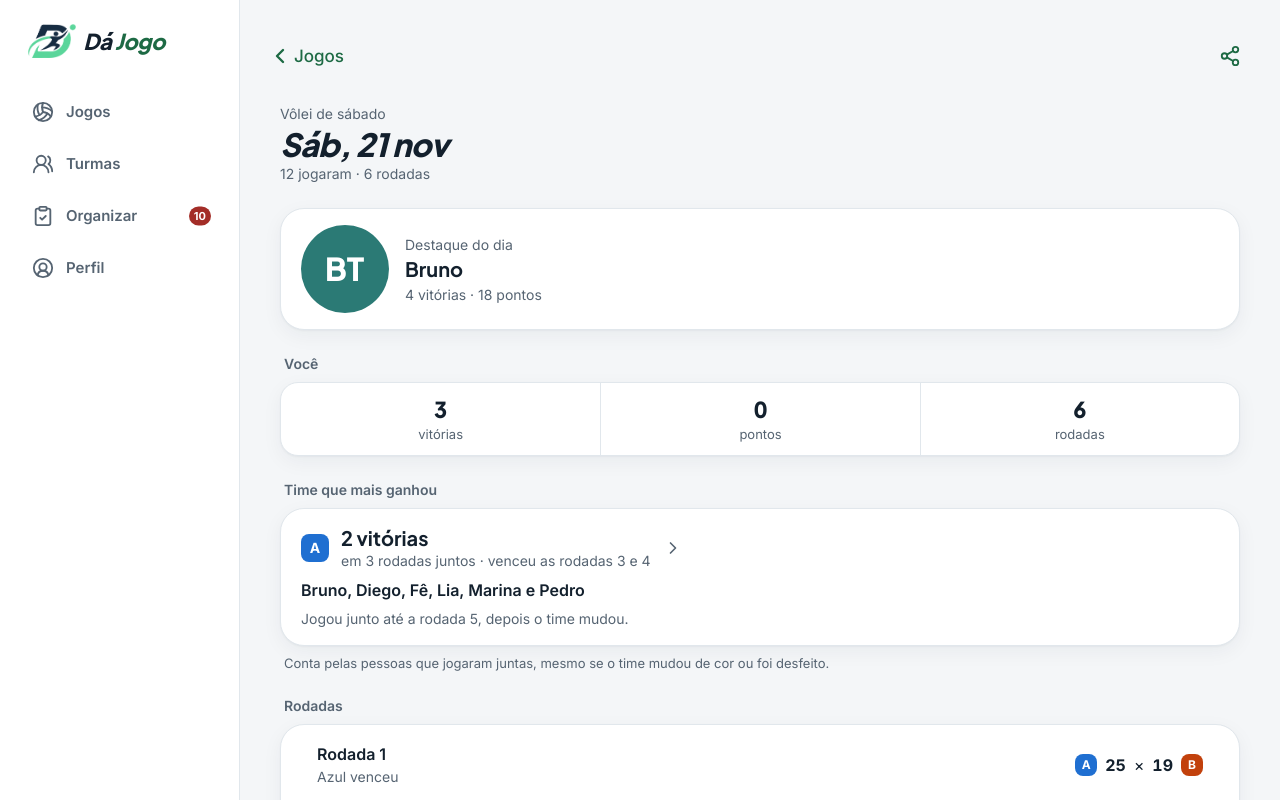
Scenario: 3.7 Você › resumo mostra o time que mais ganhou pelas pessoas, mesmo se ele foi desfeito
expect the text "em 3 rodadas juntos · venceu as rodadas 3 e 4" is shown: met, box [341,551,651,571]
expect the text "Jogou junto até a rodada 5, depois o time mudou." is shown: met, box [301,609,629,629]
tocar no card mostra quem jogou naquele time e as rodadas juntos
What coordinates should you click on to do the following:
click the button with aria-label "Ver o time:"
I would click on:
 (385, 538)
Its box is [280,508,1240,646].
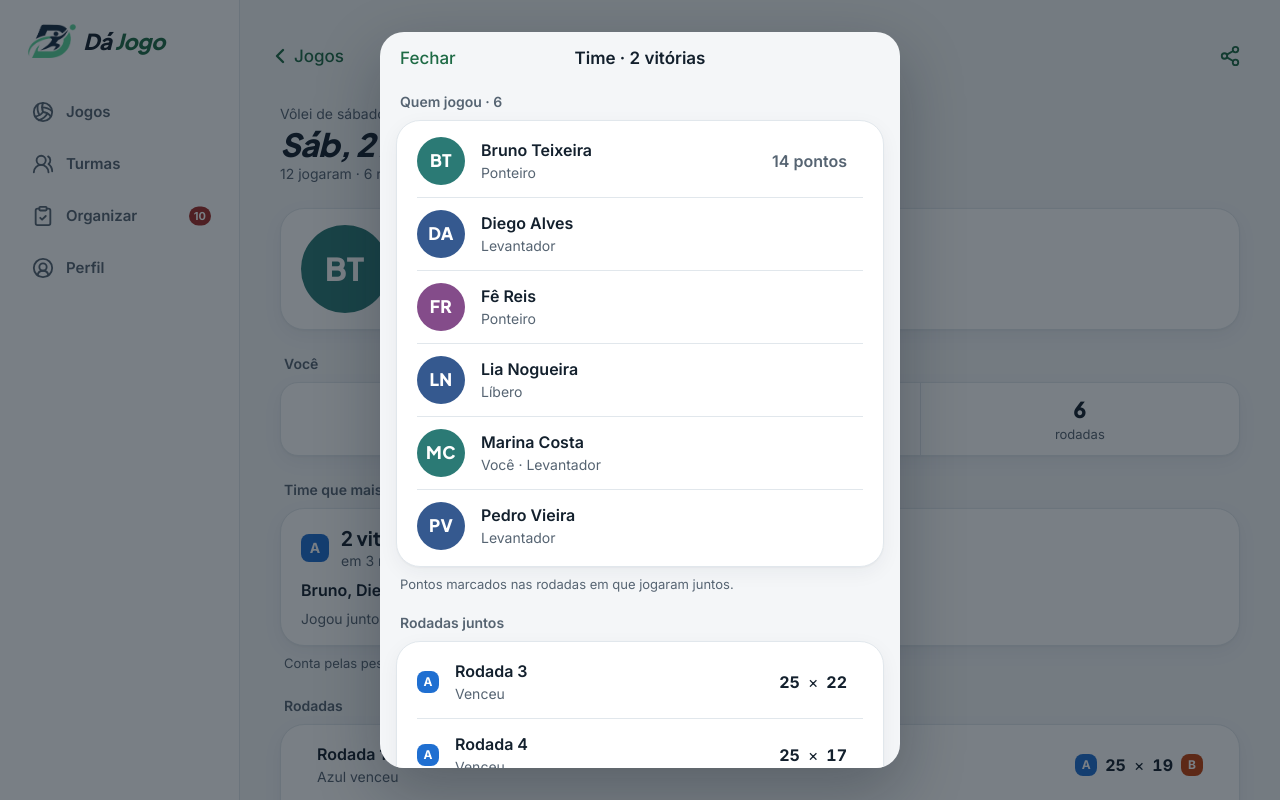
expect the text "Bruno Teixeira" is shown: met, box [481,140,592,160]
